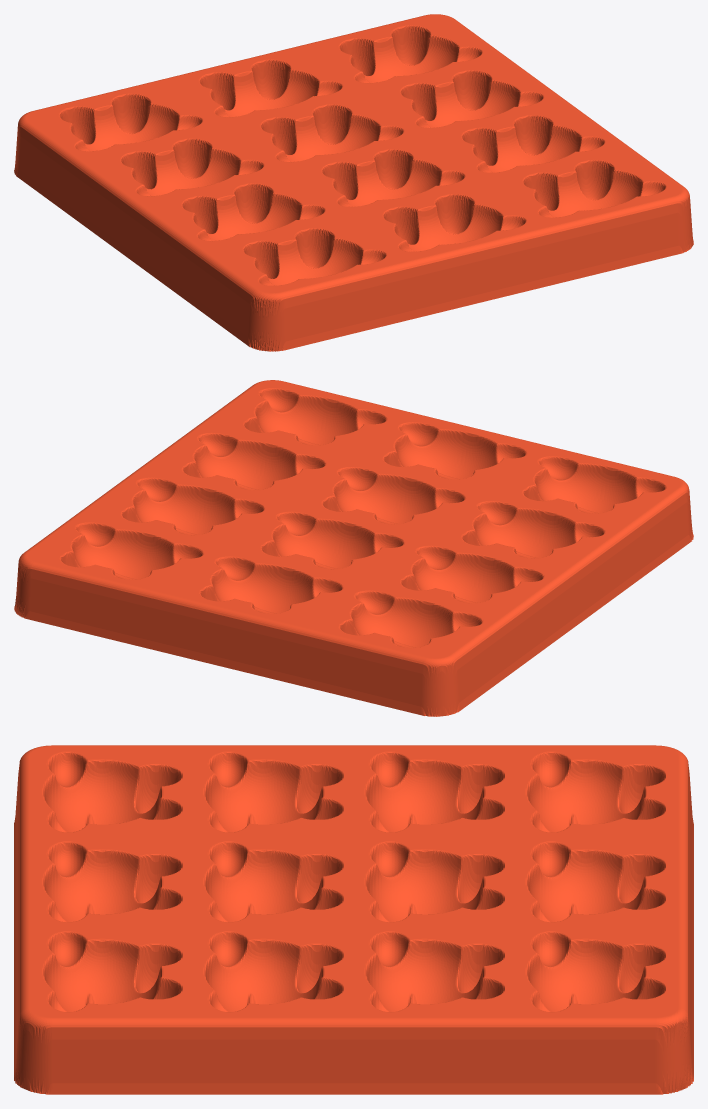
The model's file is mold.glb.
3 renders of one model, top to bottom at view 1: azimuth 30°, elevation 25°; view 2: azimuth 150°, elevation 25°; view 3: azimuth 270°, elevation 25°, orthographic. The views are drawn at different scales.
Parts seen in each view (by area): view 1: geometry_0; view 2: geometry_0; view 3: geometry_0.
Boxes of the visible parts, x1,y1,x2,y2 form: geometry_0: (14,14,693,351); geometry_0: (14,380,693,716); geometry_0: (14,745,693,1094).
Bounding box in the file's own units: 0.1598 × 0.0184 × 0.1615.
